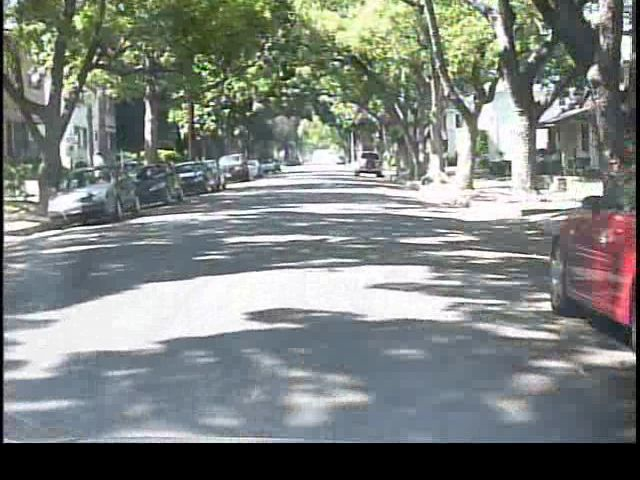person: (84, 144, 109, 196)
